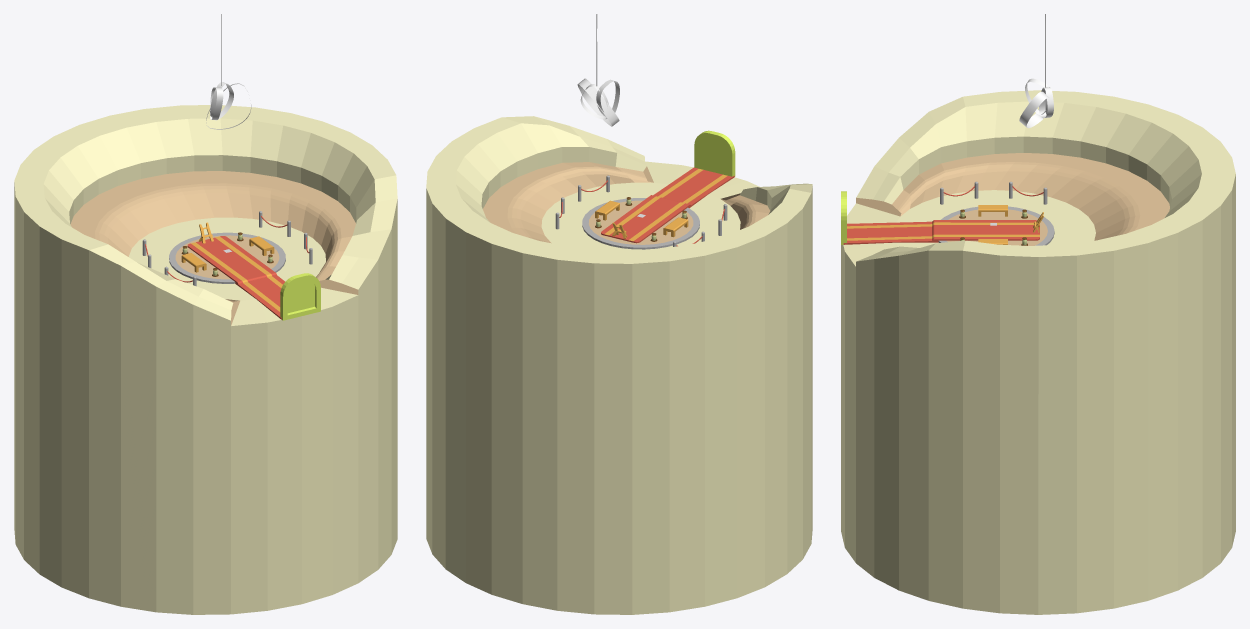
Rendered from MemorialRoom_to_MemorialPiece_without_object.fbx.
3 views of the same model, side by side, from view 1: azimuth 30°, elevation 25°; view 2: azimuth 150°, elevation 25°; view 3: azimuth 270°, elevation 25° (orthographic). The views are drawn at different scales.
Visible parts, largest first — view 1: Hall, Cube.001, Portal, Cube, Chair.001; view 2: Hall, Cube.001, Portal, Cube, BezierCircle, Chair.001; view 3: Hall, Cube.001, Cube, BezierCircle.
Boxes of the visible parts, bbox=[...] form: Hall: bbox=[14, 105, 397, 614]; Cube.001: bbox=[187, 236, 276, 284]; Portal: bbox=[280, 273, 320, 320]; Cube: bbox=[230, 275, 284, 319]; Chair.001: bbox=[181, 236, 274, 272]; Hall: bbox=[426, 116, 812, 614]; Cube.001: bbox=[601, 195, 690, 243]; Portal: bbox=[694, 130, 735, 176]; Cube: bbox=[653, 167, 734, 208]; BezierCircle: bbox=[577, 78, 619, 126]; Chair.001: bbox=[595, 200, 688, 237]; Hall: bbox=[841, 90, 1235, 614]; Cube.001: bbox=[932, 220, 1039, 242]; Cube: bbox=[843, 221, 932, 244]; BezierCircle: bbox=[1019, 91, 1048, 128].
Bounding box in the file's own units: 11453 × 16867 × 11453.
